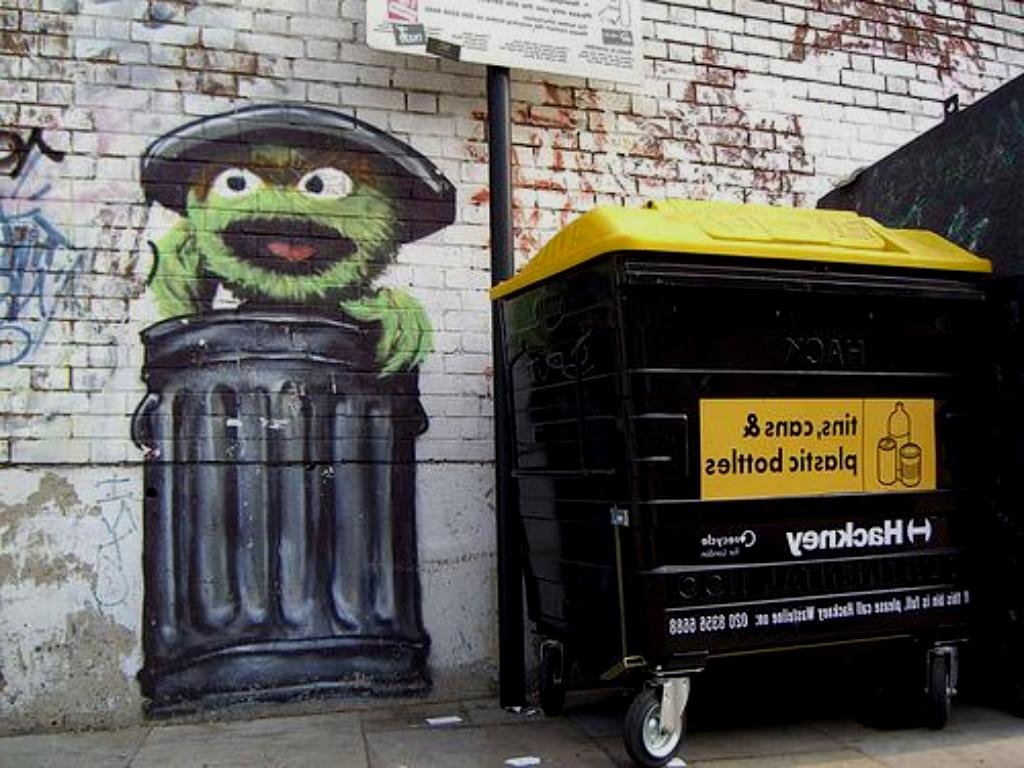dustbin: (487, 201, 971, 736)
